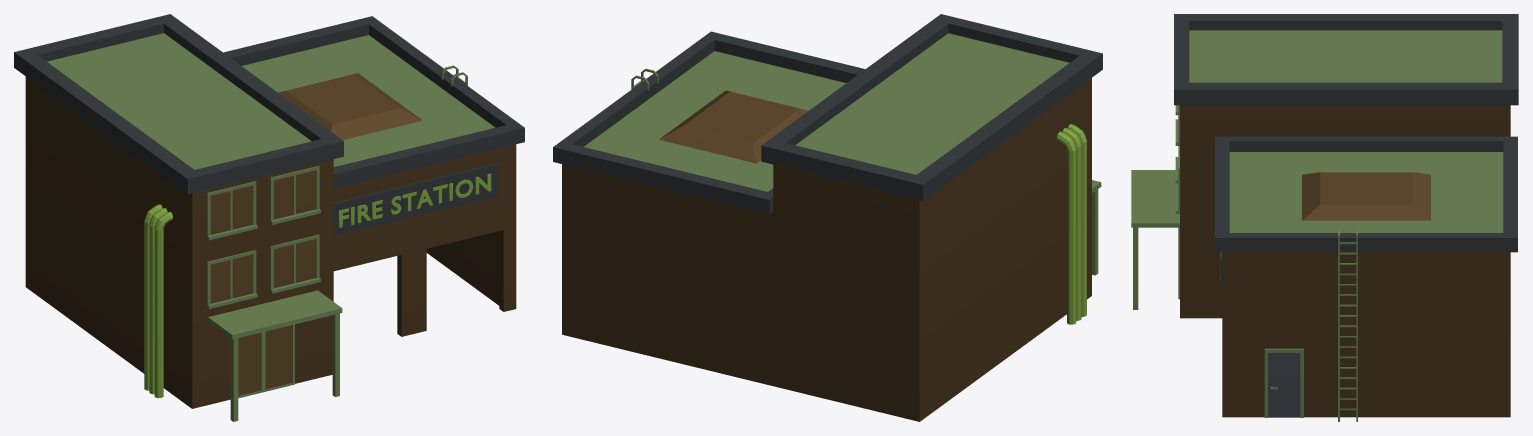
File: FireStation_01.fbx
3 renders of one model, left to right at view 1: azimuth 30°, elevation 25°; view 2: azimuth 150°, elevation 25°; view 3: azimuth 270°, elevation 25°, orthographic. The views are drawn at different scales.
Visible parts, largest first — view 1: FireStation_01; view 2: FireStation_01; view 3: FireStation_01.
Part boxes in pixels (left/top/right/bottom): FireStation_01: left=14, top=14, right=524, bottom=421; FireStation_01: left=553, top=14, right=1102, bottom=421; FireStation_01: left=1131, top=14, right=1518, bottom=421.
Bounding box in the file's own units: 11.82 × 7.11 × 10.76.
